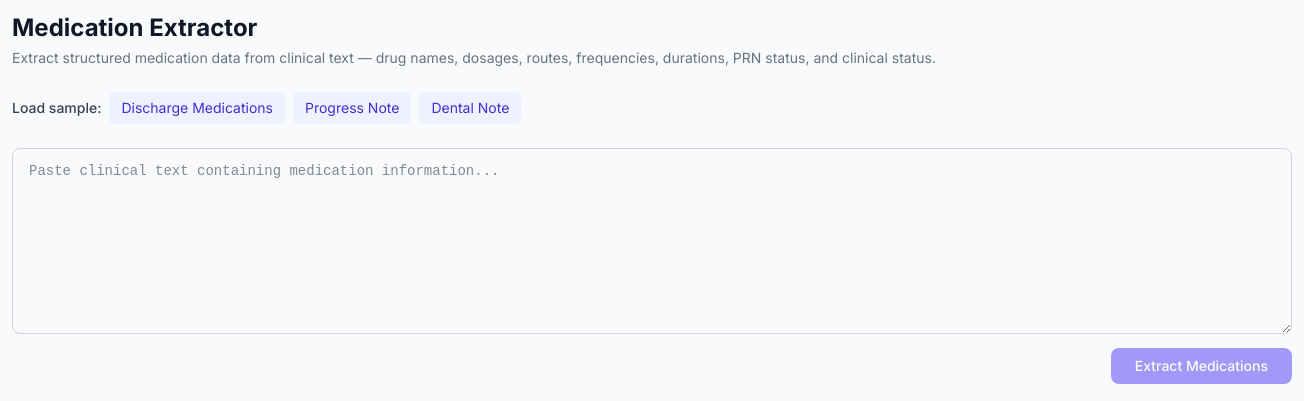
Test case: MedicationExtractor › shows word count after typing
The width and height of the screenshot is (1304, 401).
Type "Metformin 500mg PO BID" into the text box with placeholder "Paste clinical text containing medication information...".
click(652, 241); type("Metformin 500mg PO BID")  # box [12,148,1292,334]
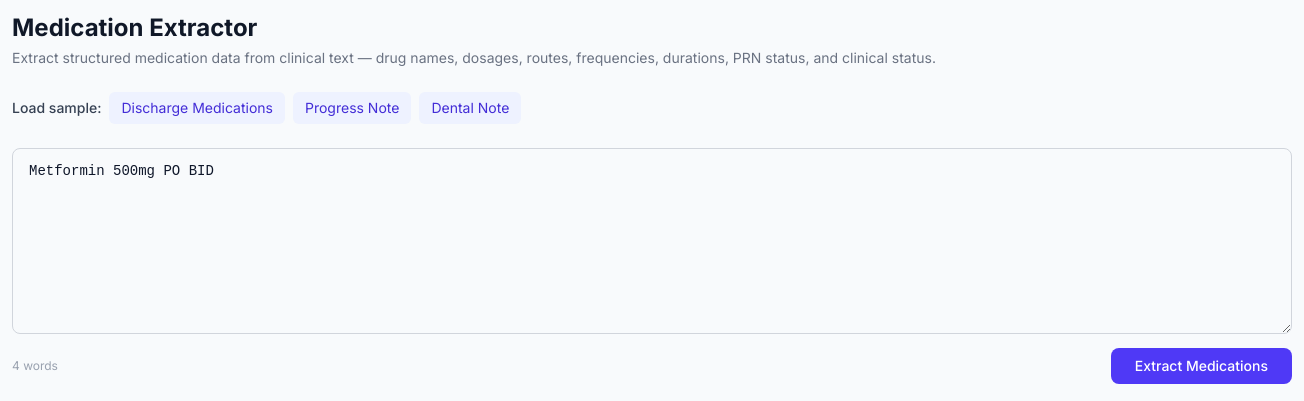
Expected: the text "4 words" is shown, [12,358,58,374]
